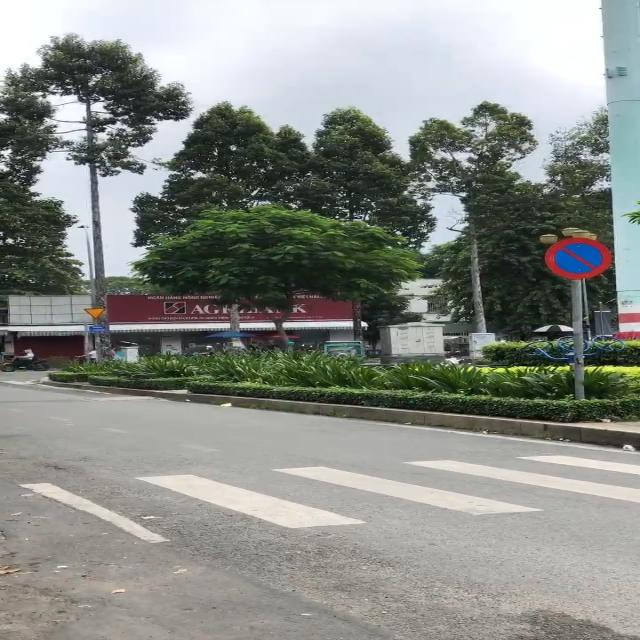Bien bao cam do xe: (535, 237, 614, 282)
Bien bao giao nhau voi duong uu tien: (83, 308, 108, 320)
